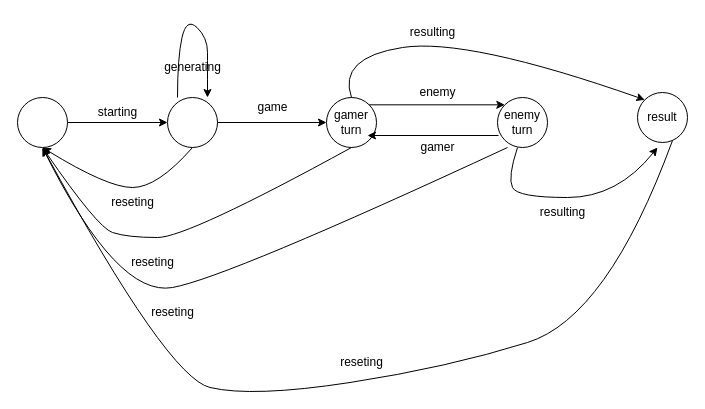
Some shapes in this 705 by 409 pixel diagram are drawn without their labels. Each missing label, with the centre of its shape:
"generate" goes at [192,122].
"start" goes at [42,122].
